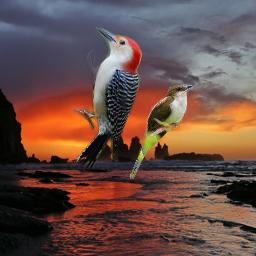Cuckoo: (129, 84, 193, 179)
Woodpecker: (73, 27, 142, 174)
